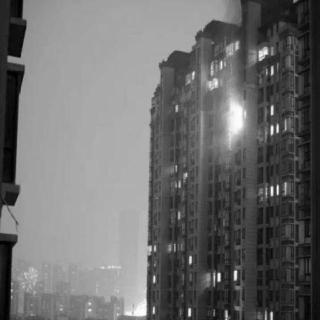other: (18, 263, 44, 293), (262, 302, 276, 316)
